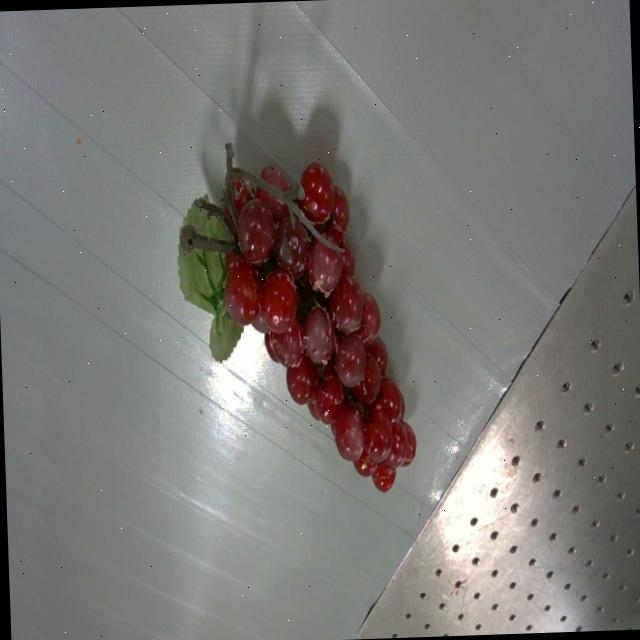grape: (179, 144, 416, 491)
